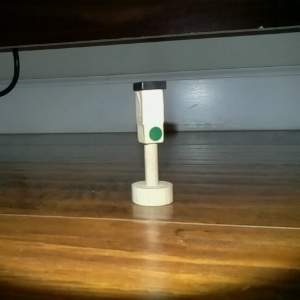traffic light green: (128, 78, 175, 207)
